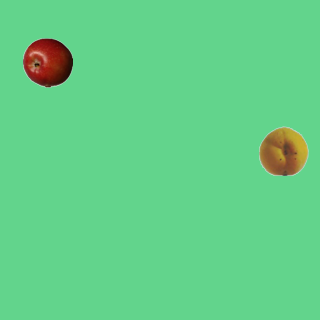Apple Braeburn: (22, 37, 72, 87)
Peach 2: (258, 125, 308, 175)
